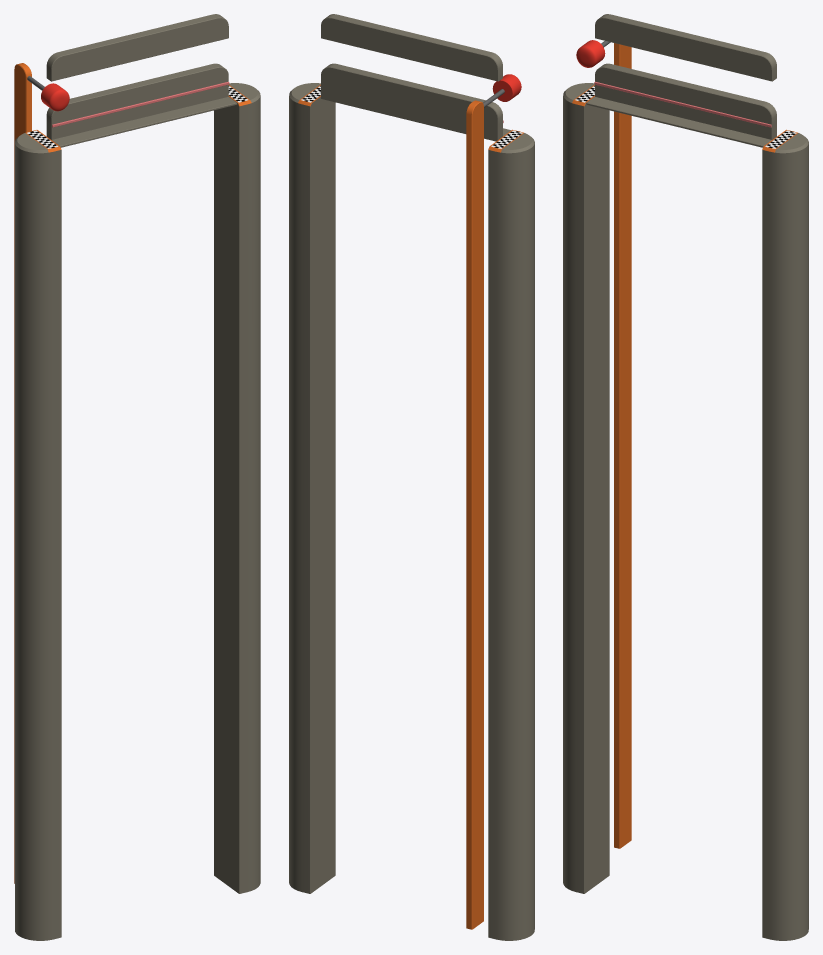
File: platform.fbx
3 renders of one model, left to right at view 1: azimuth 30°, elevation 25°; view 2: azimuth 150°, elevation 25°; view 3: azimuth 330°, elevation 25°, orthographic.
Parts seen in each view (by area): view 1: Cylinder.001, Cylinder.002, Cube, Cube.002, Cylinder; view 2: Cylinder.001, Cylinder.002, Cube.002, Cube, Cylinder; view 3: Cylinder.002, Cylinder.001, Cube.002, Cube, Cylinder.
Boxes of the visible parts, x1,y1,x2,y2 form: Cylinder.001: (15, 130, 61, 940); Cylinder.002: (214, 83, 260, 893); Cube: (46, 14, 237, 147); Cube.002: (14, 63, 31, 883); Cylinder: (27, 76, 69, 111); Cylinder.001: (488, 129, 534, 940); Cylinder.002: (289, 83, 335, 893); Cube.002: (466, 100, 483, 929); Cube: (321, 14, 510, 141); Cylinder: (483, 74, 521, 107); Cylinder.002: (762, 129, 808, 940); Cylinder.001: (563, 83, 609, 893); Cube.002: (614, 43, 631, 848); Cube: (586, 14, 776, 147); Cylinder: (576, 40, 610, 67).
Size of the model in its own units: 1076 by 3751 by 347.
7 materials, 1 textured.
